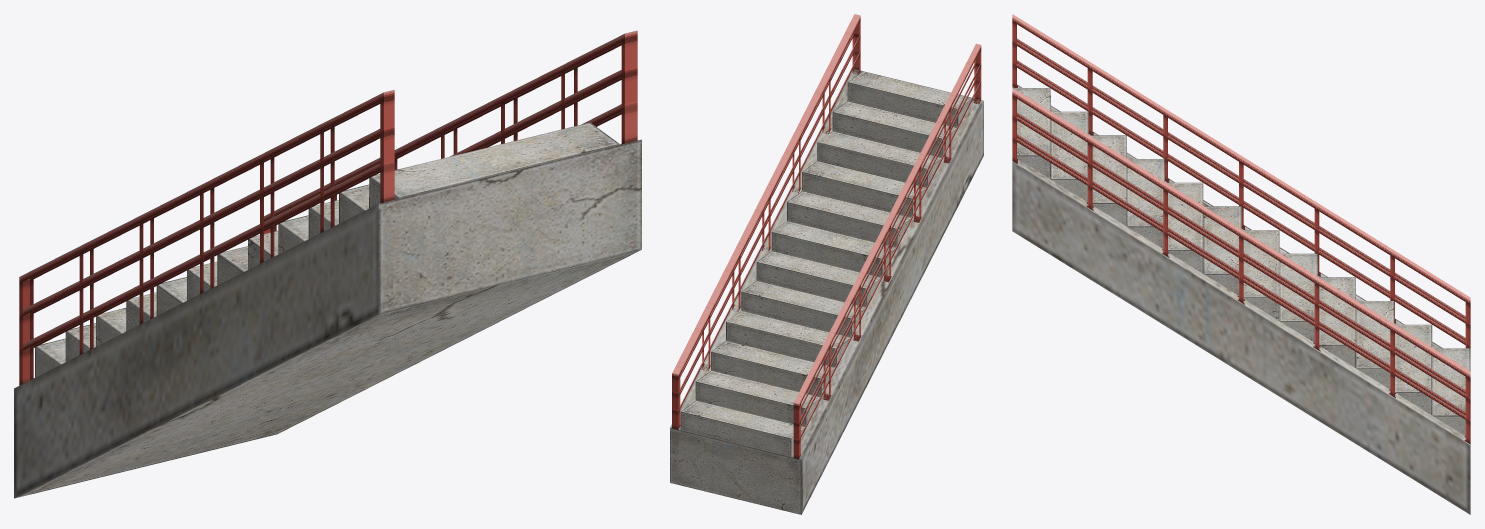
Rendered from SM_SYD_Stairs01.fbx.
3 views of the same model, side by side, from view 1: azimuth 30°, elevation 25°; view 2: azimuth 150°, elevation 25°; view 3: azimuth 270°, elevation 25° (orthographic). The views are drawn at different scales.
Visible parts, largest first — view 1: SM_SYD_Stairs01; view 2: SM_SYD_Stairs01; view 3: SM_SYD_Stairs01.
Part boxes in pixels (<box>): SM_SYD_Stairs01: <box>14,30,641,498</box>; SM_SYD_Stairs01: <box>670,14,983,514</box>; SM_SYD_Stairs01: <box>1012,14,1470,514</box>.
Size of the model in its own units: 250 by 610 by 600.
